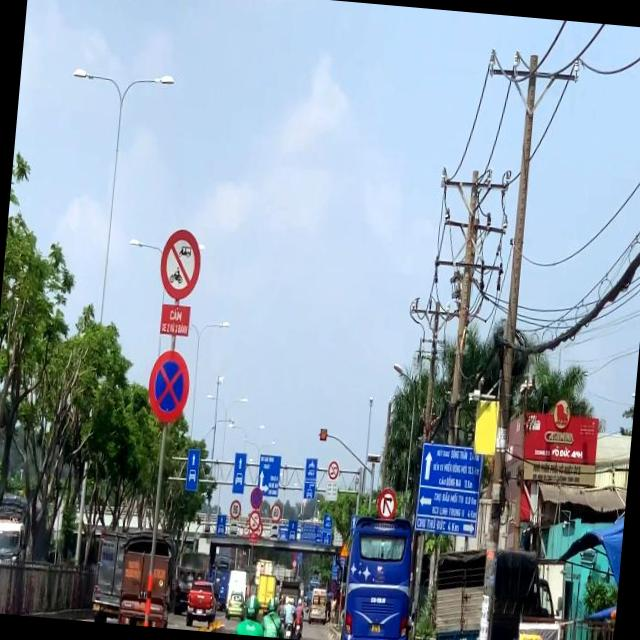P-104: (158, 228, 202, 302)
P-130: (148, 348, 192, 422)
